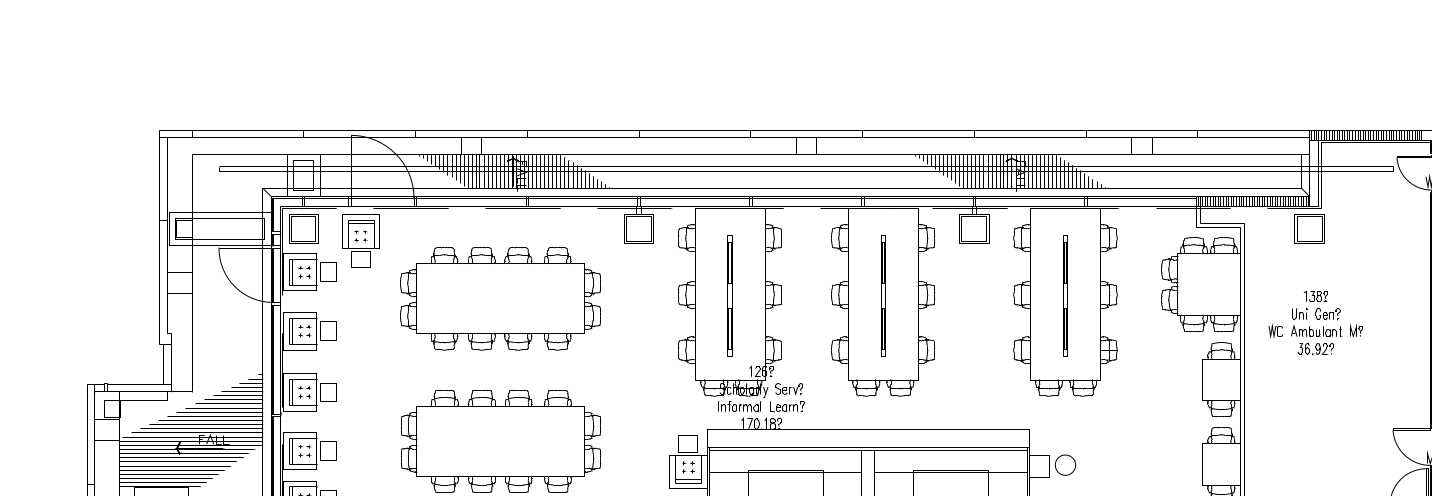door: (342, 131, 418, 209), (217, 246, 270, 307), (1392, 150, 1432, 197), (1391, 420, 1431, 467)
